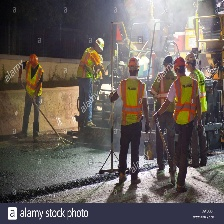helmet: (93, 37, 105, 53)
person: (115, 56, 151, 186), (169, 57, 200, 194), (77, 35, 106, 128), (17, 52, 44, 147), (152, 56, 172, 170)
vest: (171, 75, 199, 126), (119, 76, 146, 128), (75, 47, 100, 82), (24, 64, 43, 102)
